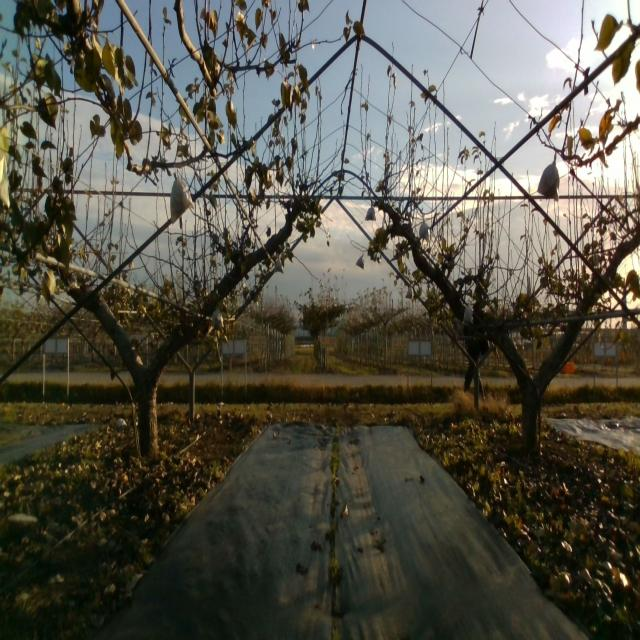pearbags: (168, 175, 194, 224), (537, 151, 560, 201), (210, 308, 224, 330), (418, 223, 431, 243), (463, 300, 473, 325), (364, 203, 376, 221)
